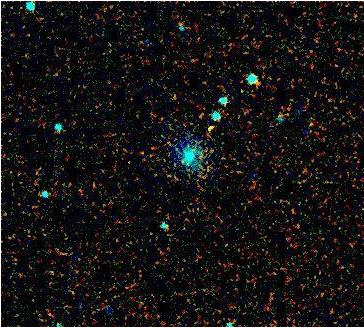star: (196, 113, 226, 143)
